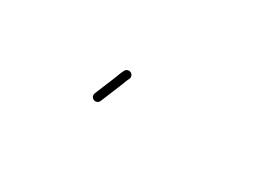i: (82, 57, 155, 134)
